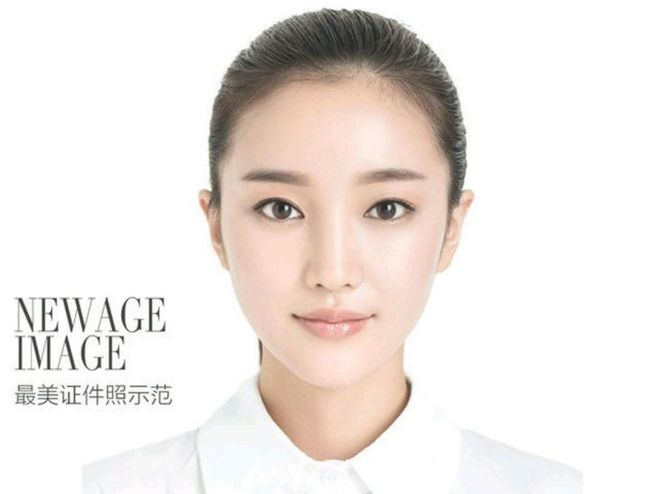unmask: (220, 101, 450, 376)
